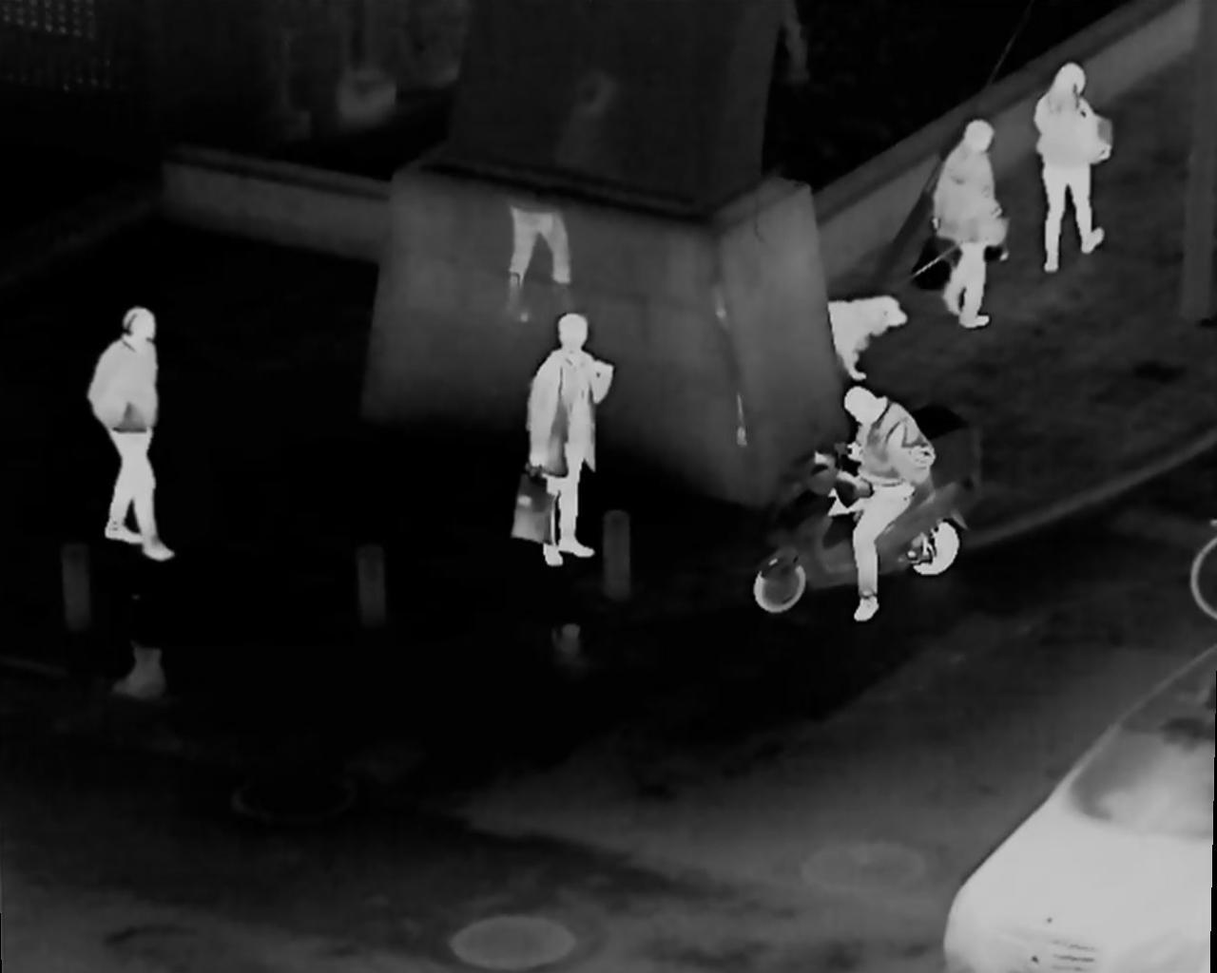person: (89, 309, 191, 563), (529, 309, 612, 563), (844, 385, 927, 611), (1033, 61, 1106, 279), (933, 111, 1004, 319)
